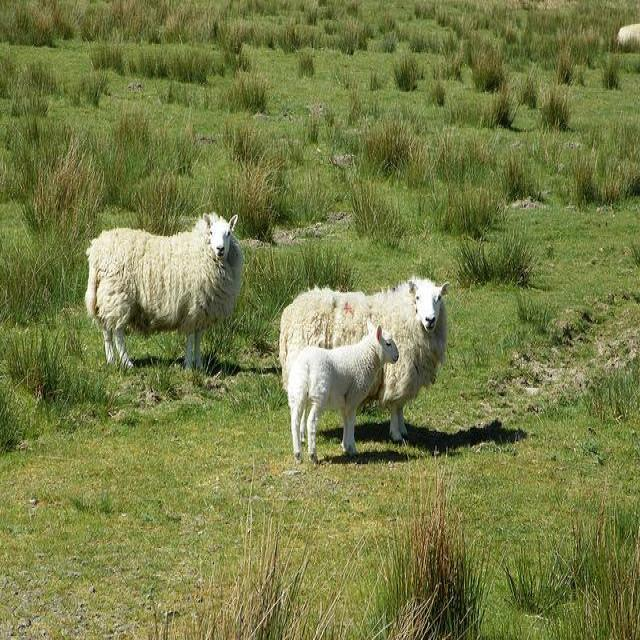Sheep: (81, 207, 248, 388), (279, 271, 453, 438), (283, 334, 402, 466)
